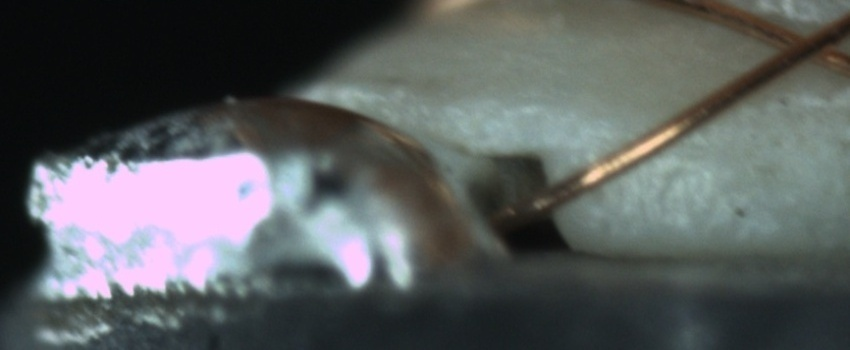CL: (756, 12, 844, 74)
